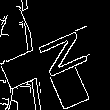N_SW: (24, 26, 86, 84)
